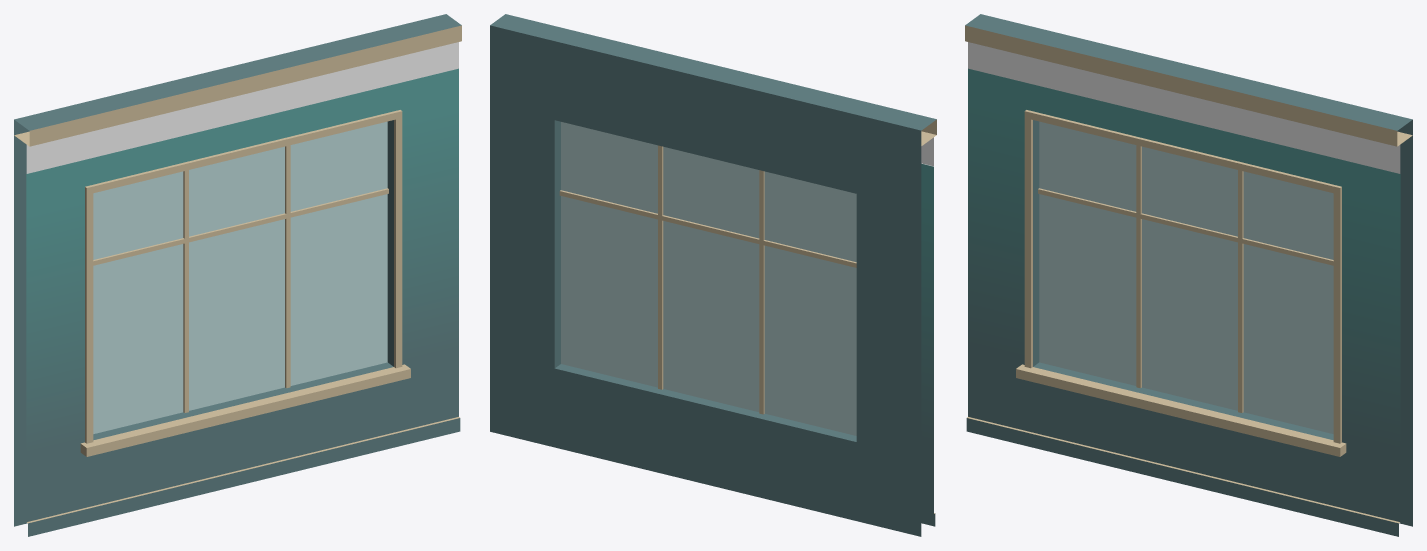
The model's file is KC32__AD_Int_Room_Wall_Window_Teal.glb.
3 views of the same model, side by side, from view 1: azimuth 30°, elevation 25°; view 2: azimuth 150°, elevation 25°; view 3: azimuth 330°, elevation 25° (orthographic).
Visible parts, largest first — view 1: KC32_CORPS__AD_Int_Room_Wall_Window_Teal, KC32_VITRAGE__AD_Int_Room_Wall_Window_Teal, KC32_BRONZE__AD_Int_Room_Wall_Window_Teal, KC32_ACCENT__AD_Int_Room_Wall_Window_Teal; view 2: KC32_CORPS__AD_Int_Room_Wall_Window_Teal, KC32_VITRAGE__AD_Int_Room_Wall_Window_Teal, KC32_BRONZE__AD_Int_Room_Wall_Window_Teal; view 3: KC32_CORPS__AD_Int_Room_Wall_Window_Teal, KC32_VITRAGE__AD_Int_Room_Wall_Window_Teal, KC32_BRONZE__AD_Int_Room_Wall_Window_Teal, KC32_ACCENT__AD_Int_Room_Wall_Window_Teal.
Part boxes in pixels (bbox=[...]): KC32_CORPS__AD_Int_Room_Wall_Window_Teal: bbox=[14, 14, 461, 536]; KC32_VITRAGE__AD_Int_Room_Wall_Window_Teal: bbox=[93, 121, 387, 433]; KC32_BRONZE__AD_Int_Room_Wall_Window_Teal: bbox=[14, 25, 461, 523]; KC32_ACCENT__AD_Int_Room_Wall_Window_Teal: bbox=[26, 42, 458, 173]; KC32_CORPS__AD_Int_Room_Wall_Window_Teal: bbox=[490, 14, 936, 536]; KC32_VITRAGE__AD_Int_Room_Wall_Window_Teal: bbox=[561, 122, 856, 435]; KC32_BRONZE__AD_Int_Room_Wall_Window_Teal: bbox=[559, 119, 936, 513]; KC32_CORPS__AD_Int_Room_Wall_Window_Teal: bbox=[965, 14, 1412, 536]; KC32_VITRAGE__AD_Int_Room_Wall_Window_Teal: bbox=[1039, 121, 1333, 433]; KC32_BRONZE__AD_Int_Room_Wall_Window_Teal: bbox=[965, 25, 1412, 523]; KC32_ACCENT__AD_Int_Room_Wall_Window_Teal: bbox=[968, 42, 1400, 173].
Size of the model in its own units: 4 by 3.6 by 0.3.
